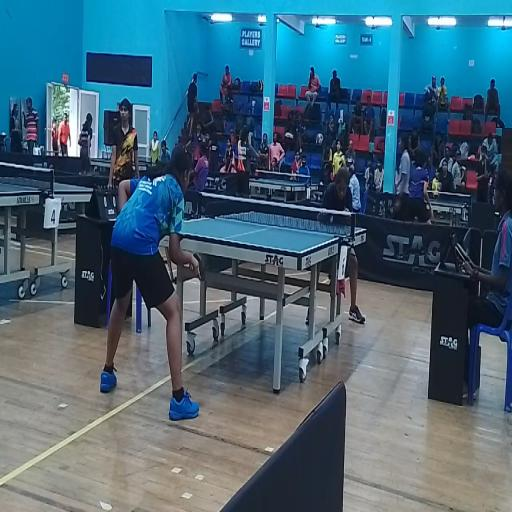ball: (329, 216, 333, 224)
